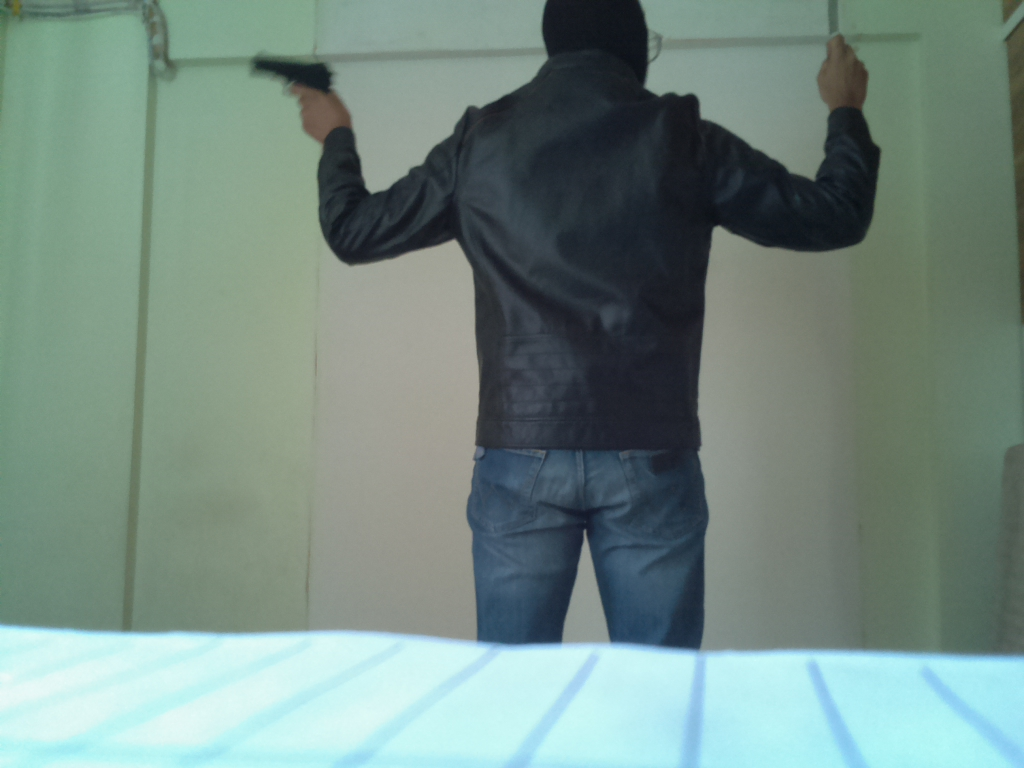gun: (246, 56, 333, 107)
